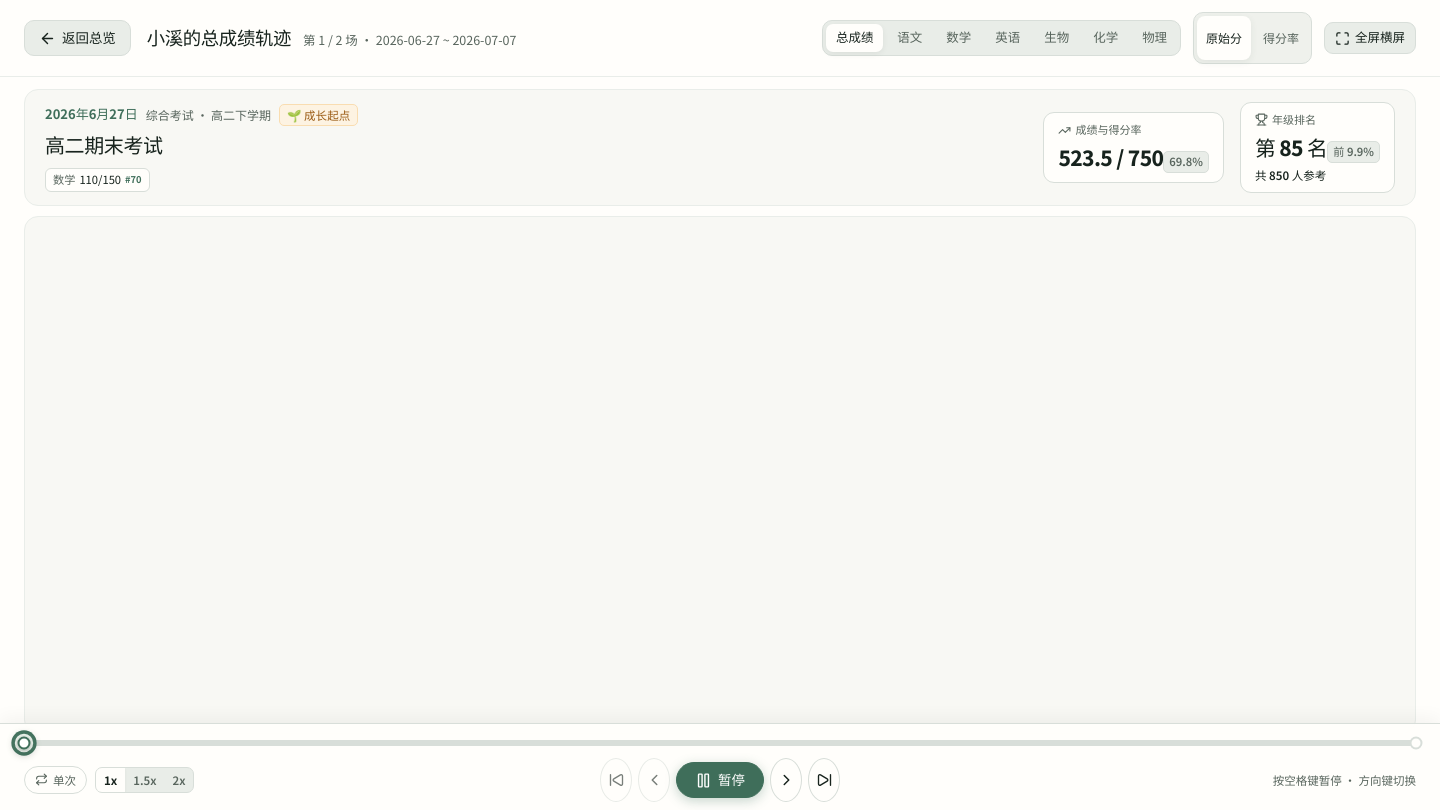
Test: ReplayPage › advances and rewinds exam frames via playback buttons
Click the button named "下一场" at (786, 780), box 770,758 -> 802,802
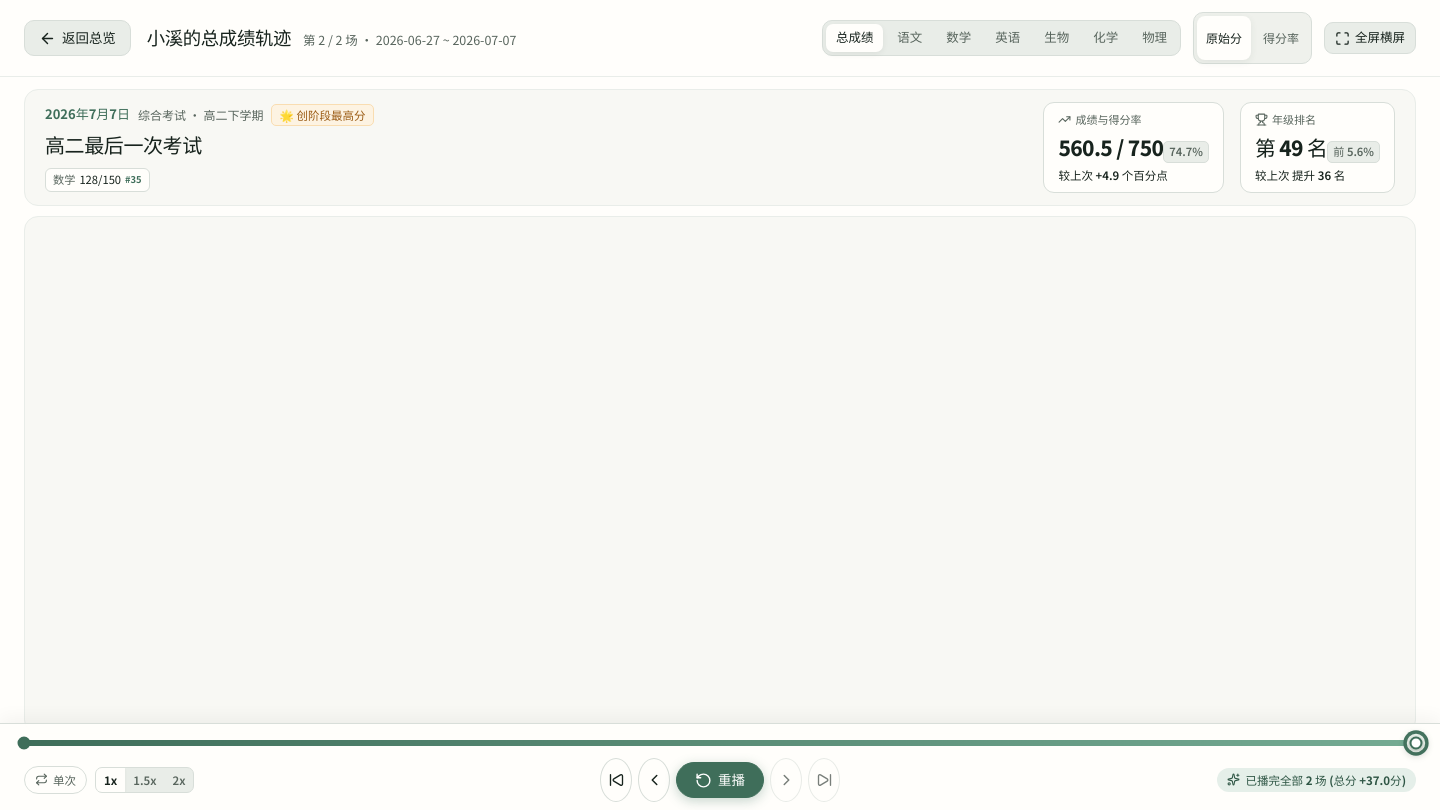
expect the heading "高二最后一次考试" is shown: met, box 45,130 -> 202,159
expect the text "560.5 / 750" is shown: met, box 1058,132 -> 1163,162
expect the text "第 49 名" is shown: met, box 1255,132 -> 1327,162
Click the button named "上一场" at (654, 780), box 638,758 -> 670,802
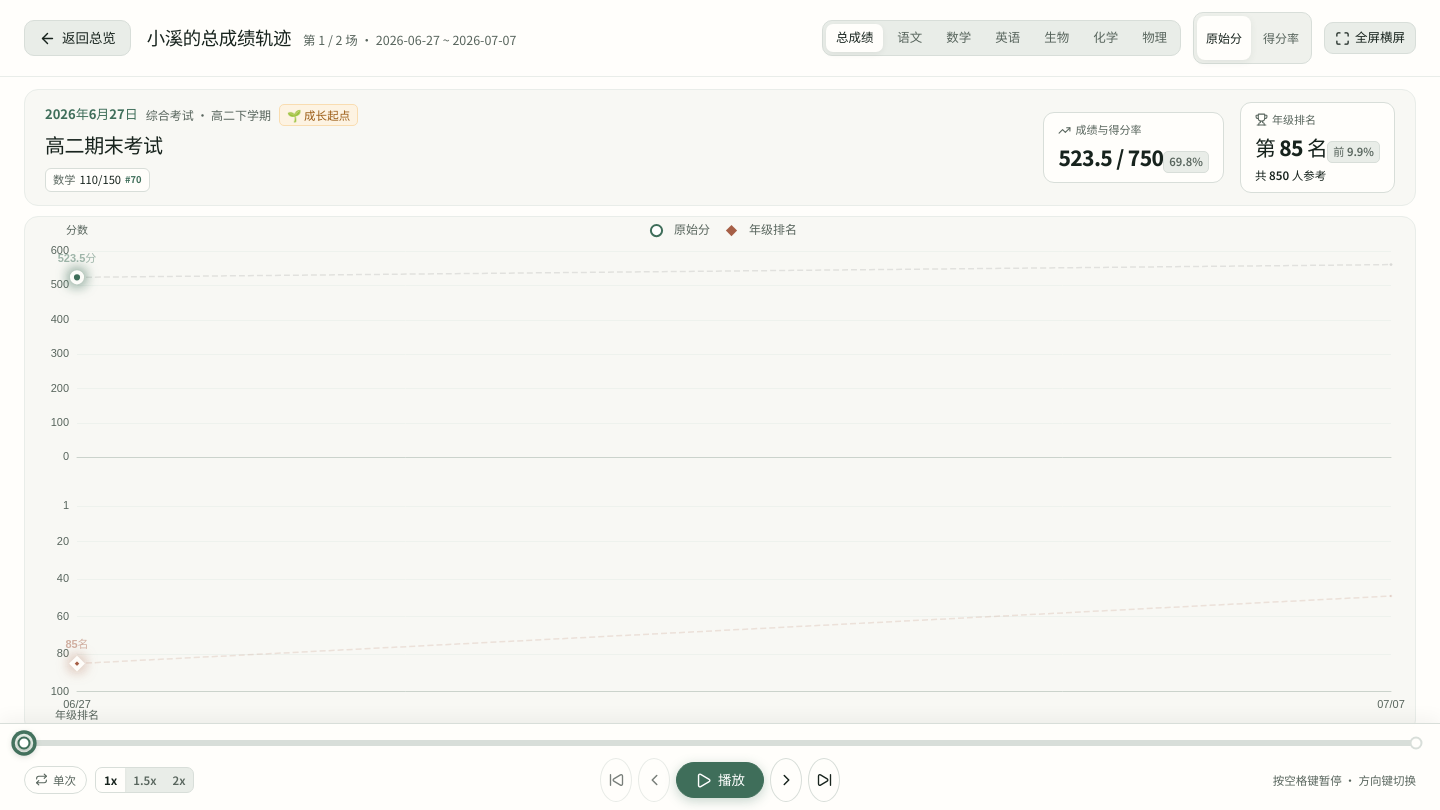
expect the heading "高二期末考试" is shown: met, box 45,130 -> 163,159
